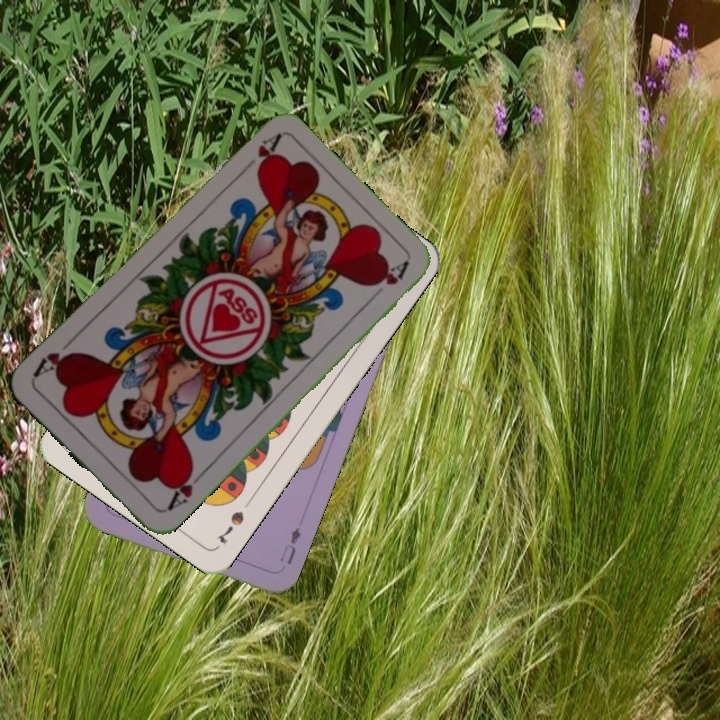EU: (275, 523, 304, 567)
HA: (161, 464, 207, 514), (235, 131, 283, 178)
S7: (213, 507, 247, 546)
